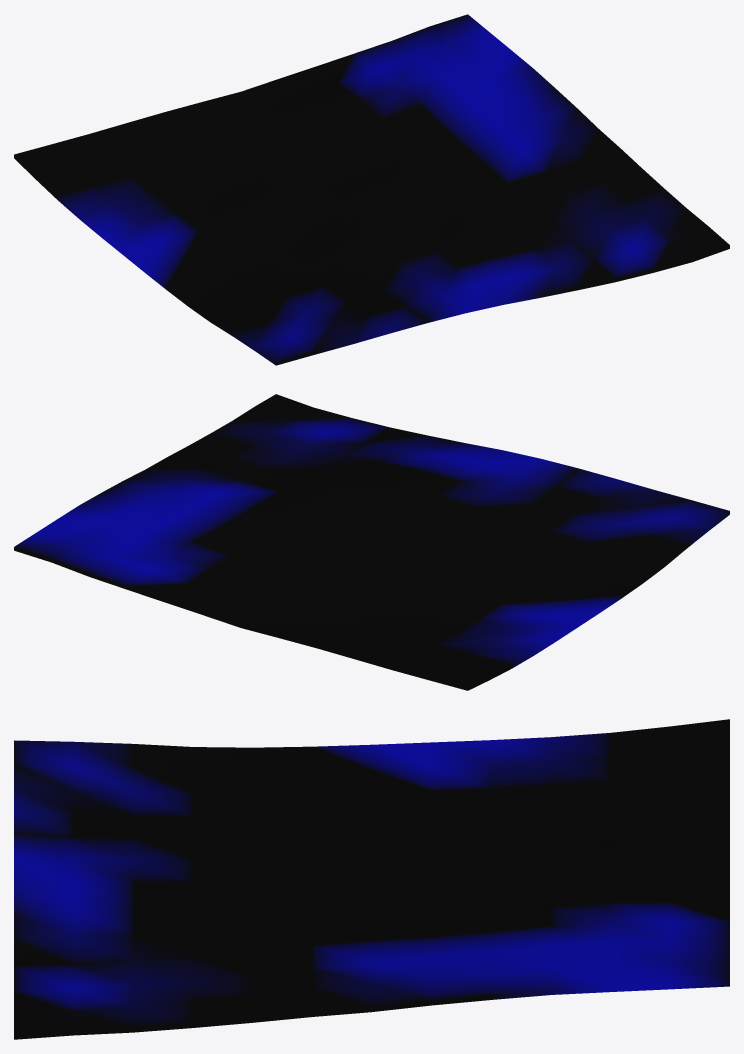
File: coast_4_4.glb
The picture shows the model from 3 angles, top to bottom: view 1: azimuth 30°, elevation 25°; view 2: azimuth 150°, elevation 25°; view 3: azimuth 270°, elevation 25°; orthographic projection. The views are drawn at different scales.
Visible parts, largest first — view 1: terrain; view 2: terrain; view 3: terrain.
Boxes of the visible parts, left/top/right/bottom form: terrain: left=14, top=14, right=729, bottom=365; terrain: left=14, top=394, right=729, bottom=690; terrain: left=14, top=719, right=729, bottom=1039.
Bounding box in the file's own units: 192 × 21.86 × 192.
